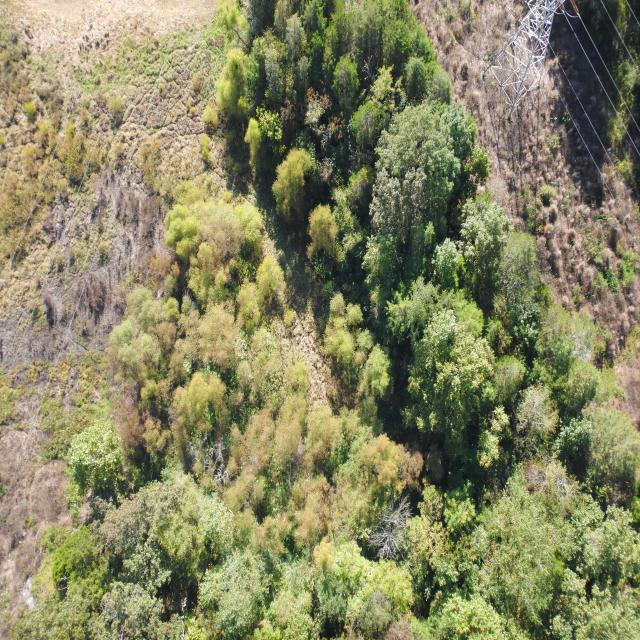Area of Interest: (45, 9, 636, 629)
